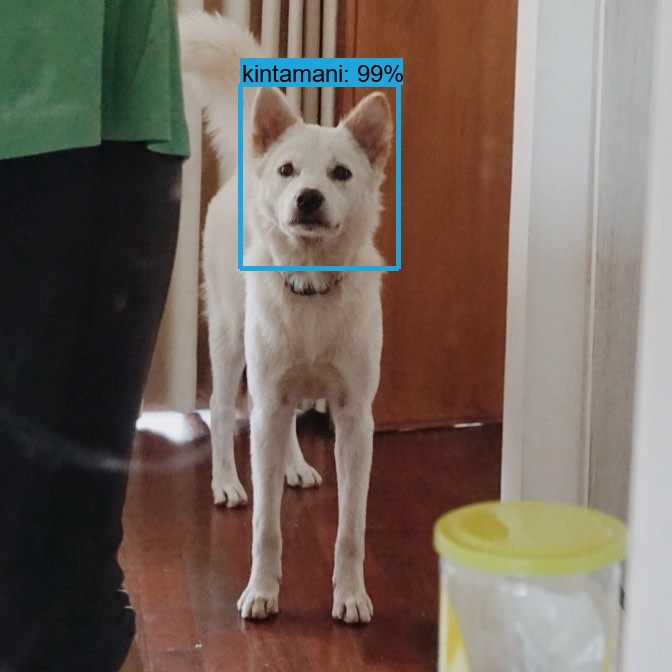kintamani: (242, 82, 398, 257)
